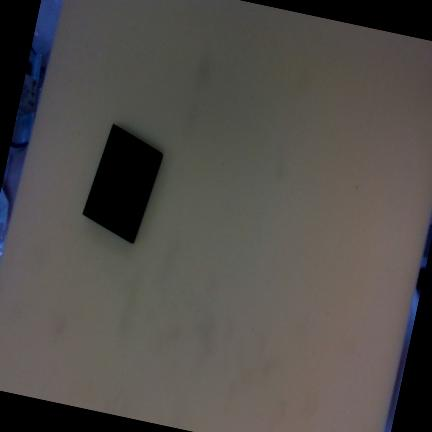tile: (78, 124, 166, 245)
